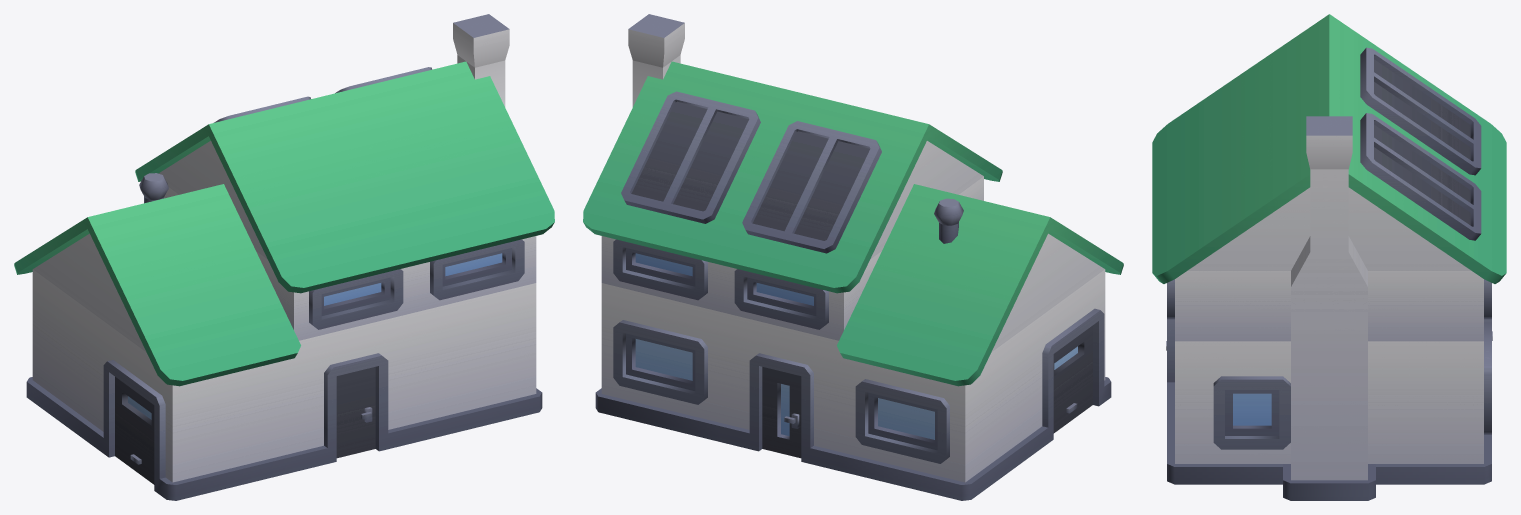
3 views of the same model, side by side, from view 1: azimuth 30°, elevation 25°; view 2: azimuth 150°, elevation 25°; view 3: azimuth 270°, elevation 25° (orthographic). The views are drawn at different scales.
Parts seen in each view (by area): view 1: building-type-j; view 2: building-type-j; view 3: building-type-j.
Part boxes in pixels (<box>): building-type-j: <box>14,14,554,500</box>; building-type-j: <box>583,14,1123,500</box>; building-type-j: <box>1152,14,1506,500</box>.
Size of the model in its own units: 12.33 by 9.34 by 8.24.
Materials: 1 (1 with a texture image).
